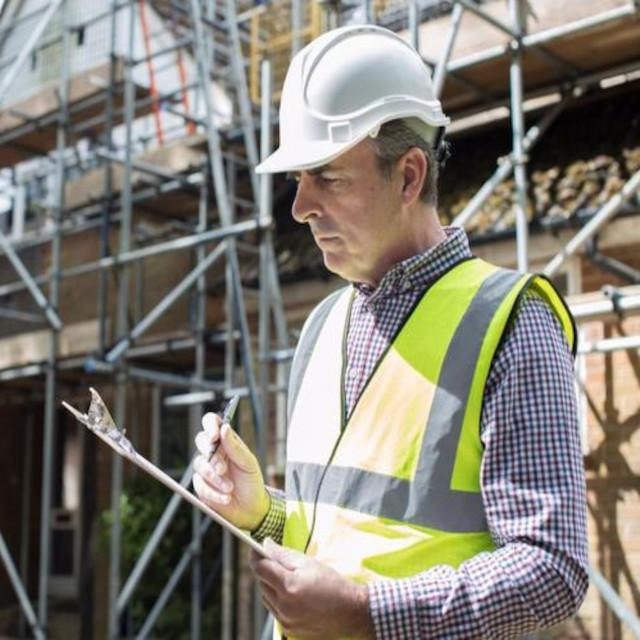mezczyzna: (198, 16, 600, 640)
